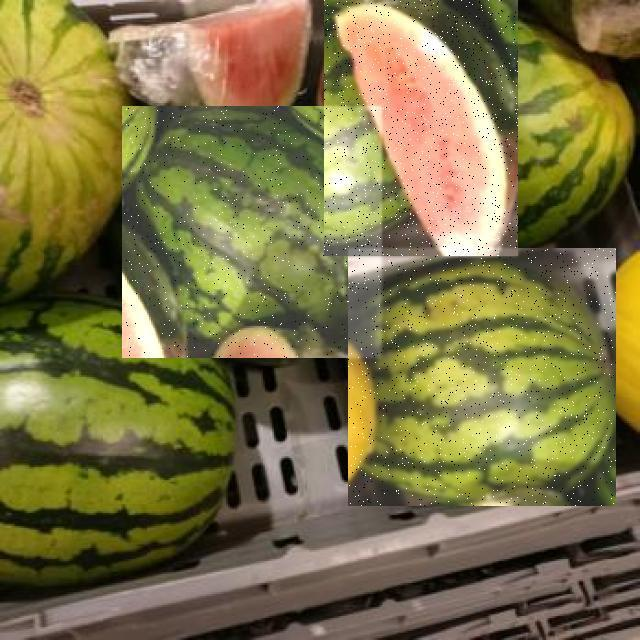Watermelon: (348, 248, 616, 506), (122, 107, 382, 359), (324, 0, 518, 256)
